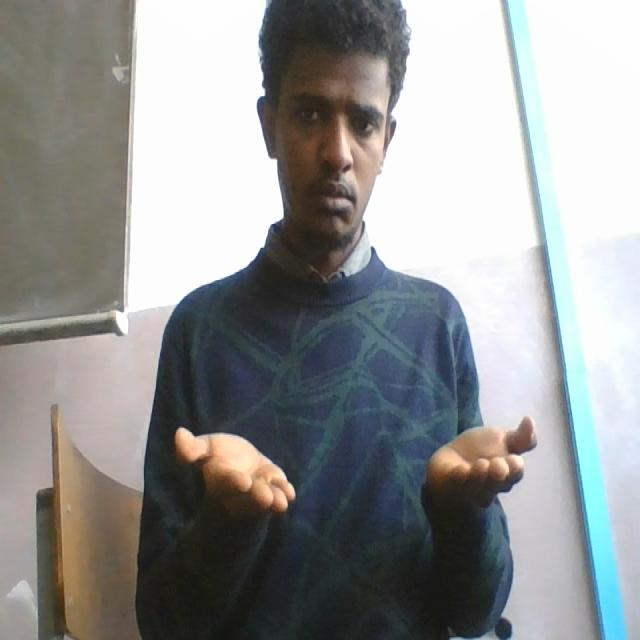mestet: (170, 412, 541, 518)
